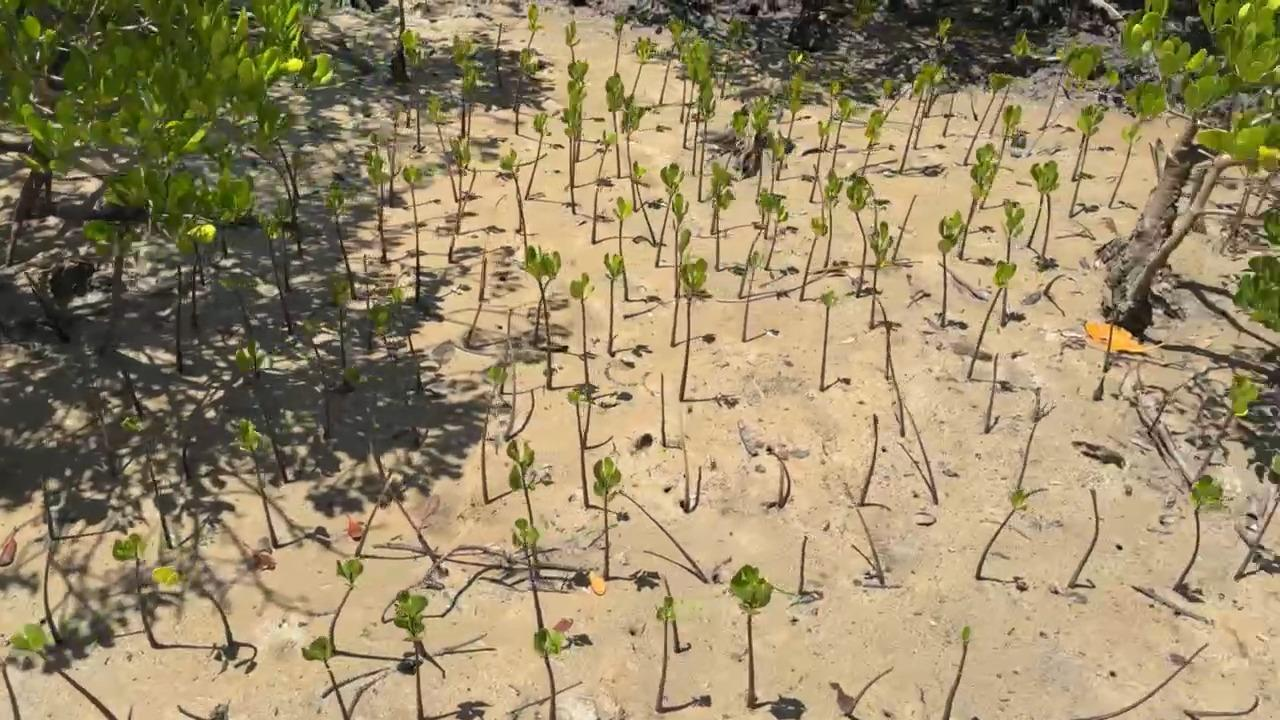Tree: (113, 533, 226, 656), (234, 420, 334, 550), (394, 588, 490, 720), (514, 245, 597, 396), (122, 417, 216, 548), (507, 439, 588, 591), (150, 563, 259, 673), (731, 563, 807, 720), (328, 558, 421, 676), (511, 517, 591, 653), (401, 162, 471, 306), (481, 365, 551, 506), (680, 257, 740, 409), (592, 458, 659, 591), (446, 138, 516, 263), (571, 271, 634, 405), (236, 341, 294, 483), (670, 191, 719, 348), (590, 129, 651, 248), (530, 248, 593, 360), (966, 260, 1017, 392), (367, 153, 425, 266), (655, 598, 710, 716), (1173, 474, 1223, 603), (561, 105, 613, 225), (1201, 375, 1261, 477), (460, 73, 516, 181), (1234, 453, 1280, 584), (958, 148, 1009, 266), (370, 283, 426, 388), (388, 102, 441, 210), (898, 62, 946, 179), (975, 487, 1029, 590), (429, 93, 479, 202), (739, 196, 790, 302), (613, 196, 662, 304), (251, 151, 303, 252), (979, 103, 1025, 214), (604, 253, 652, 358), (989, 30, 1035, 138), (569, 78, 612, 189), (656, 162, 700, 267), (0, 624, 47, 720), (964, 73, 1012, 167), (401, 29, 437, 154), (1068, 104, 1107, 218), (258, 210, 295, 330), (896, 407, 940, 503), (776, 81, 817, 184), (498, 149, 535, 260), (627, 38, 669, 135), (301, 636, 349, 720), (605, 71, 640, 185), (394, 497, 446, 572), (301, 319, 334, 432), (325, 181, 356, 300), (740, 250, 780, 342), (938, 211, 968, 331), (924, 19, 960, 118), (870, 222, 903, 330), (818, 290, 852, 393), (846, 174, 874, 298), (1015, 398, 1049, 497), (534, 627, 569, 720), (682, 40, 712, 148), (715, 178, 748, 275), (860, 413, 892, 512), (1069, 488, 1100, 590), (799, 217, 835, 304), (884, 329, 911, 440), (463, 297, 520, 349), (943, 625, 974, 720), (505, 341, 535, 439), (765, 191, 800, 275), (355, 482, 392, 561), (658, 18, 690, 109), (1109, 129, 1144, 212), (629, 162, 663, 247), (217, 272, 257, 343), (327, 277, 353, 384), (453, 37, 480, 136), (565, 60, 606, 124), (753, 95, 777, 202), (692, 57, 713, 177), (697, 80, 718, 200), (912, 73, 944, 151), (1071, 110, 1104, 183), (1040, 66, 1075, 134), (677, 26, 701, 124), (868, 81, 901, 152), (863, 110, 896, 180), (810, 118, 836, 204), (962, 167, 995, 234), (870, 296, 896, 381), (823, 168, 844, 273), (525, 112, 550, 200), (708, 163, 738, 235), (513, 50, 539, 132), (172, 262, 191, 373), (664, 577, 691, 653), (719, 17, 744, 98), (833, 95, 861, 166), (44, 543, 63, 646), (893, 194, 919, 263), (659, 373, 682, 448), (725, 108, 750, 173), (983, 353, 1002, 435), (683, 439, 704, 512), (277, 143, 303, 199), (766, 132, 789, 193), (851, 544, 885, 585), (823, 78, 842, 150), (613, 12, 633, 78), (119, 366, 144, 416), (523, 4, 542, 53), (564, 19, 585, 63), (190, 265, 203, 328), (799, 535, 813, 593), (44, 487, 59, 541), (777, 450, 791, 507), (494, 22, 506, 87), (785, 49, 807, 83), (193, 247, 210, 288), (943, 93, 957, 138), (479, 260, 491, 300)
